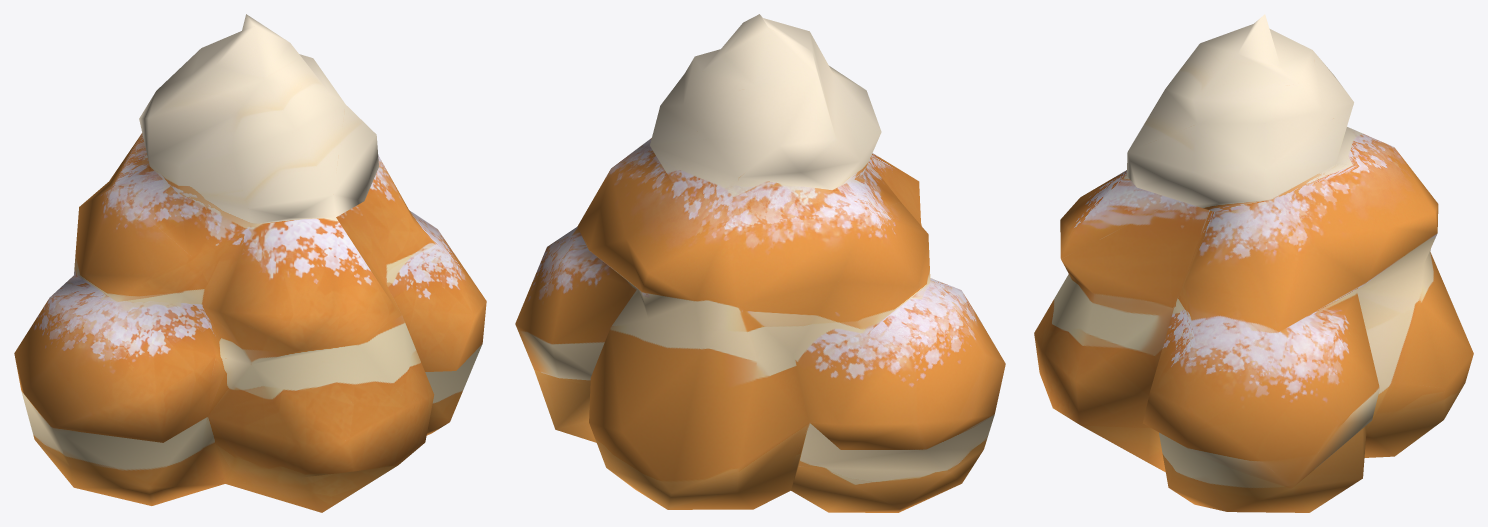
The model's file is source.fbx.
3 renders of one model, left to right at view 1: azimuth 30°, elevation 25°; view 2: azimuth 150°, elevation 25°; view 3: azimuth 270°, elevation 25°, orthographic. The views are drawn at different scales.
Visible parts, largest first — view 1: Mesh_0; view 2: Mesh_0; view 3: Mesh_0.
Boxes of the visible parts, <box> form: Mesh_0: <box>14,14,486,512</box>; Mesh_0: <box>515,14,1005,512</box>; Mesh_0: <box>1034,14,1473,512</box>.
Size of the model in its own units: 18.71 by 18 by 16.78.
1 material, 1 textured.
